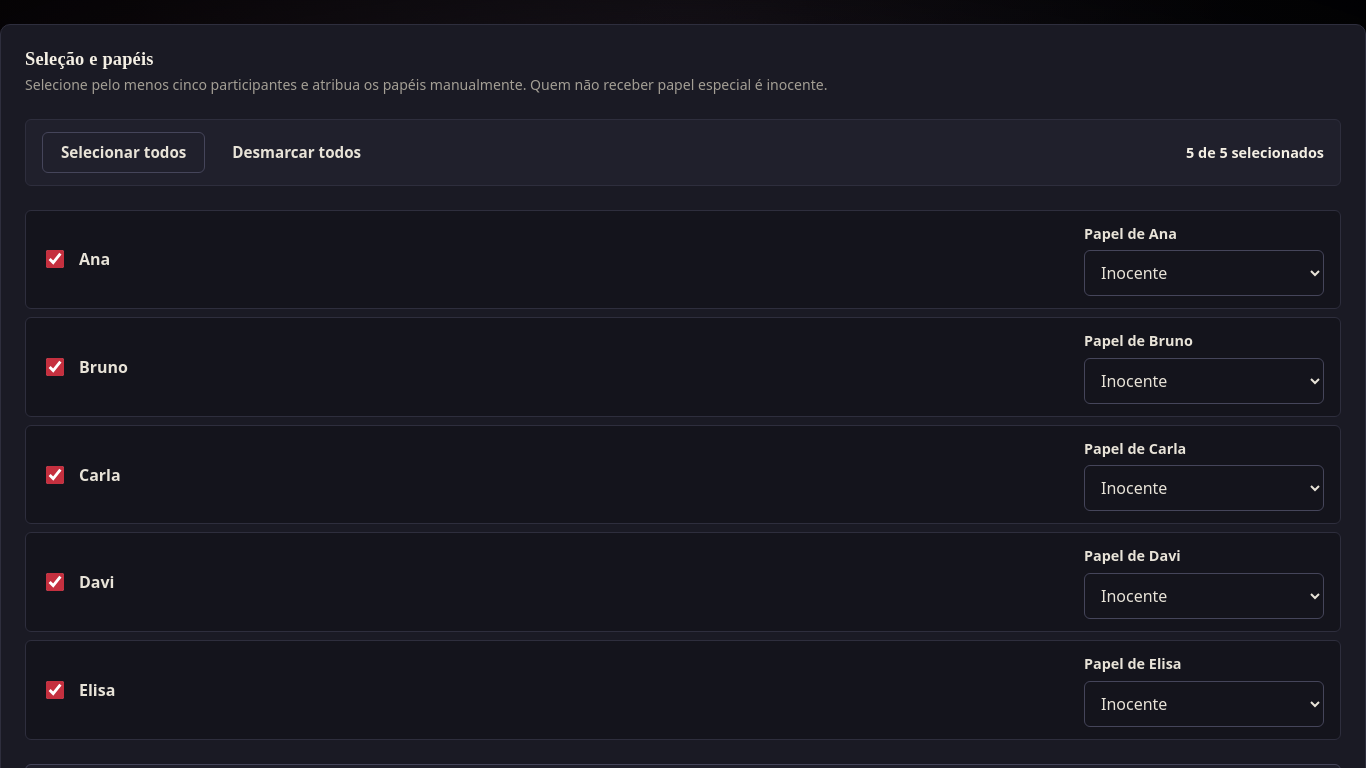
Configuração da partida (integração) › preserva o papel ao desmarcar e remarcar o participante
This screenshot has width=1366, height=768.
expect the text "5 de 5 selecionados" is shown: met, box [1186,142,1324,163]
Select "Assassino" in the dropdown labelled "Papel de Ana" at [1204, 273], box [1084,250,1324,296]
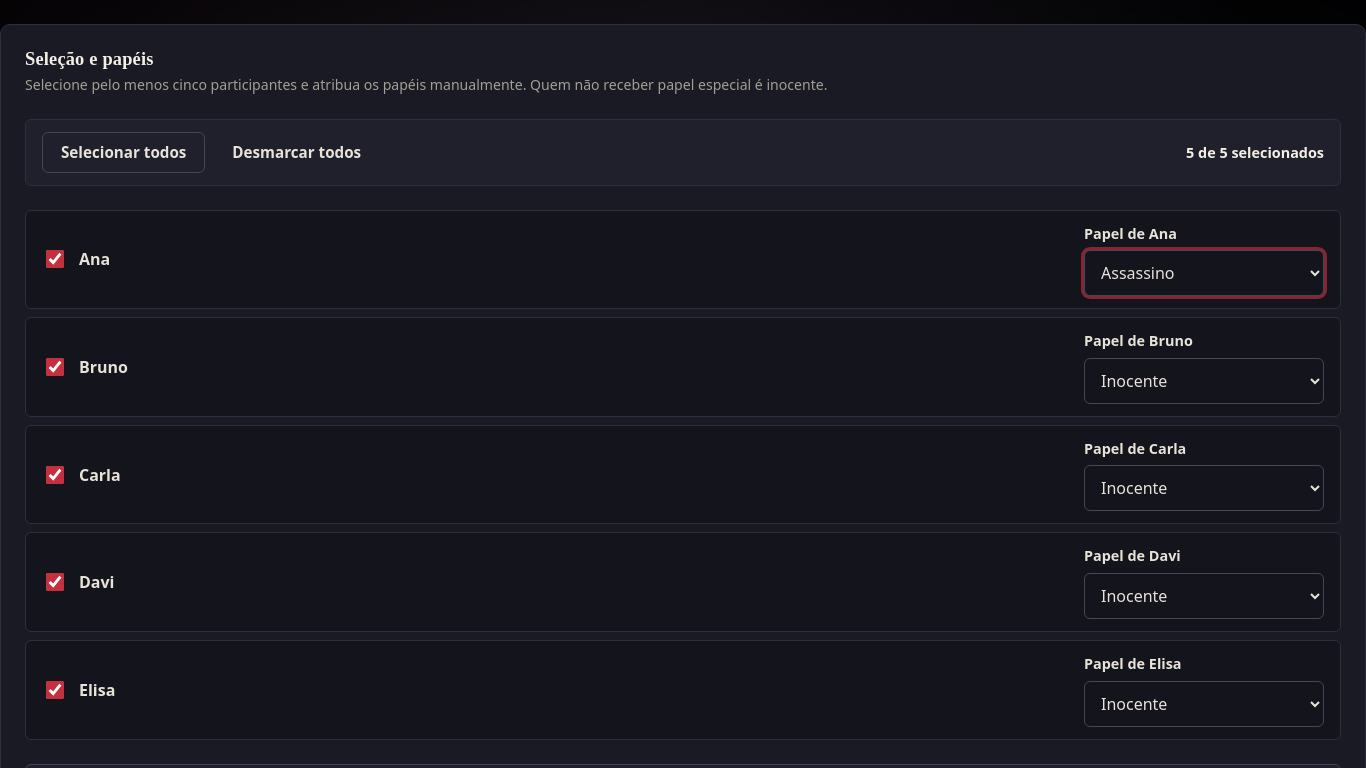
Click the checkbox labelled "Ana" at [55, 259], box [46,250,64,268]
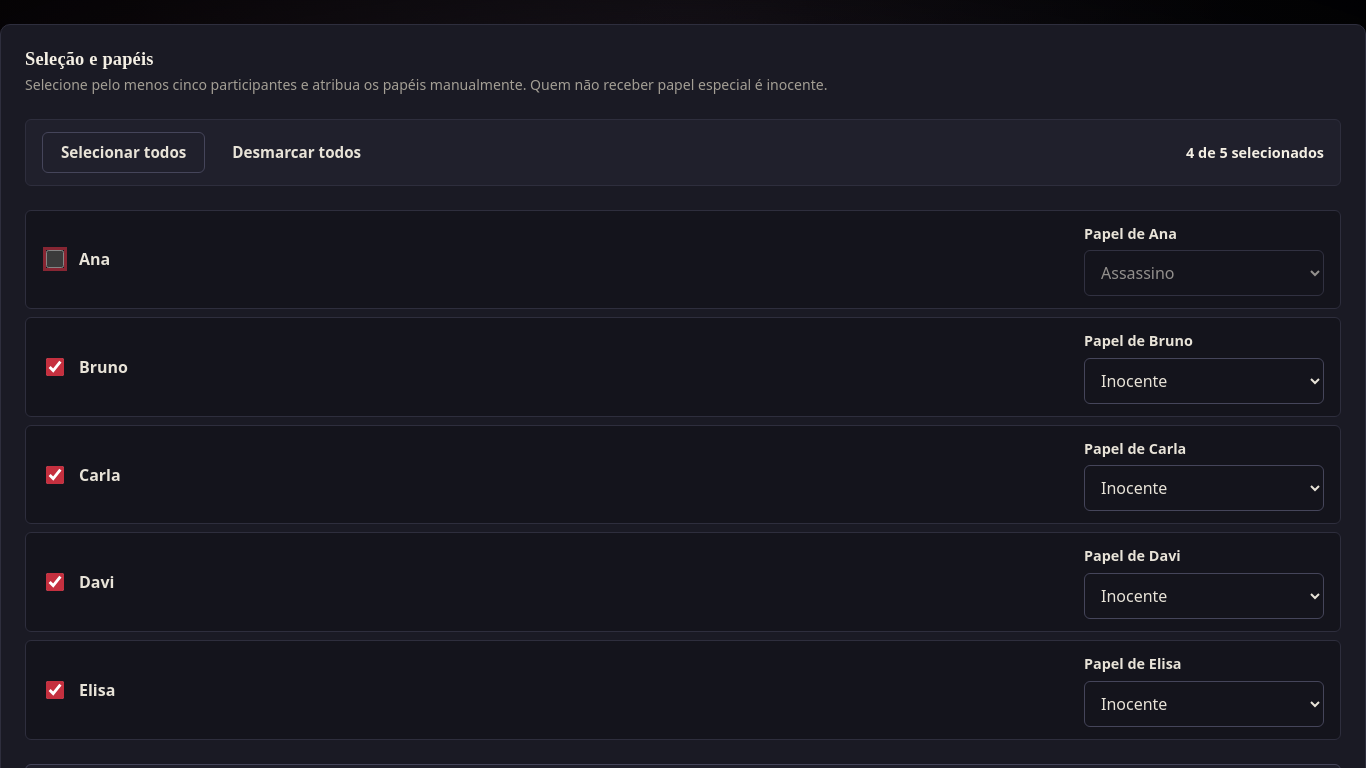
expect the text "4 de 5 selecionados" is shown: met, box [1186,142,1324,163]
Click the checkbox labelled "Ana" at [55, 259], box [46,250,64,268]
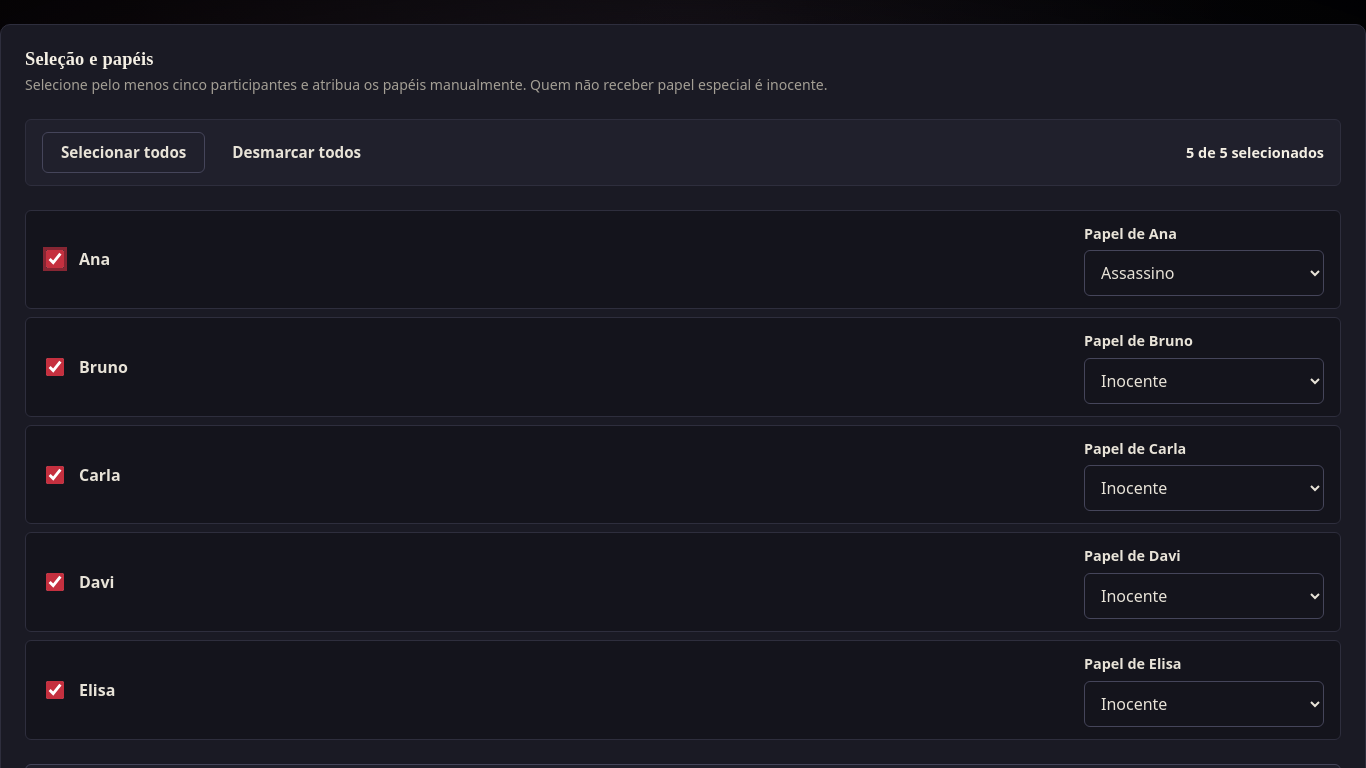
expect the text "5 de 5 selecionados" is shown: met, box [1186,142,1324,163]
